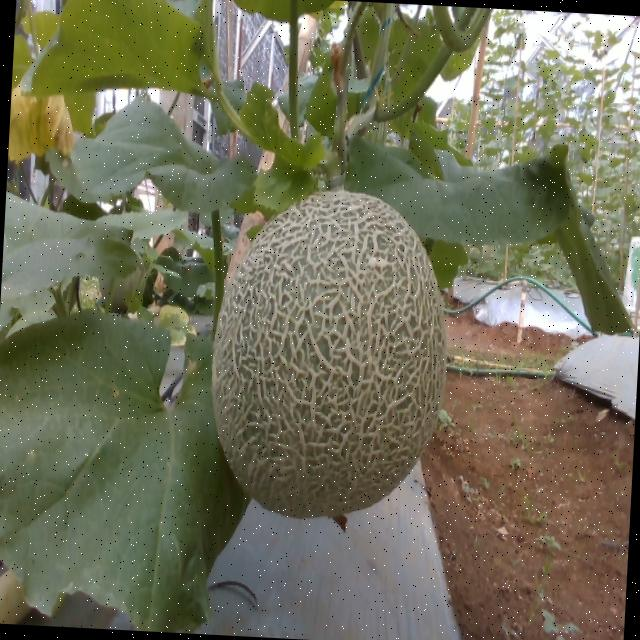melon: (212, 190, 447, 519)
